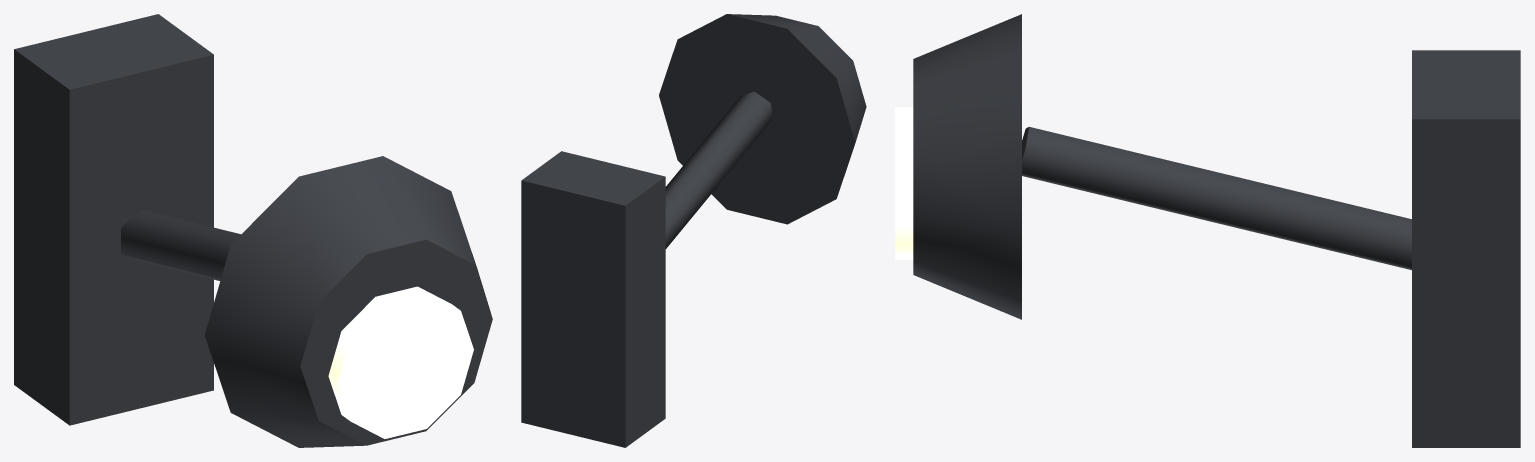
Rendered from prop_street_alley_lamp.glb.
3 renders of one model, left to right at view 1: azimuth 30°, elevation 25°; view 2: azimuth 150°, elevation 25°; view 3: azimuth 270°, elevation 25°, orthographic. The views are drawn at different scales.
Parts seen in each view (by area): view 1: alley_lamp, alley_lamp_bulb; view 2: alley_lamp; view 3: alley_lamp, alley_lamp_bulb.
Boxes of the visible parts, <box> form: alley_lamp: <box>14,14,492,447</box>; alley_lamp_bulb: <box>328,286,473,438</box>; alley_lamp: <box>521,14,866,447</box>; alley_lamp: <box>913,14,1520,447</box>; alley_lamp_bulb: <box>895,107,913,259</box>.
Bounding box in the file's own units: 0.34 × 0.4617 × 0.69.
